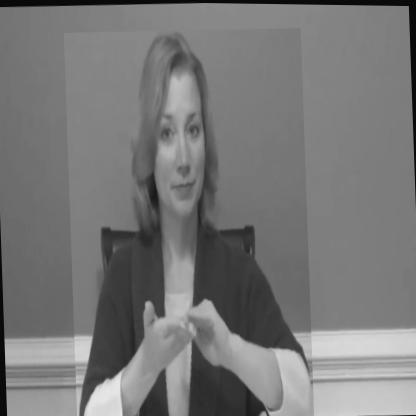ExcuseMe: (64, 24, 314, 416)
